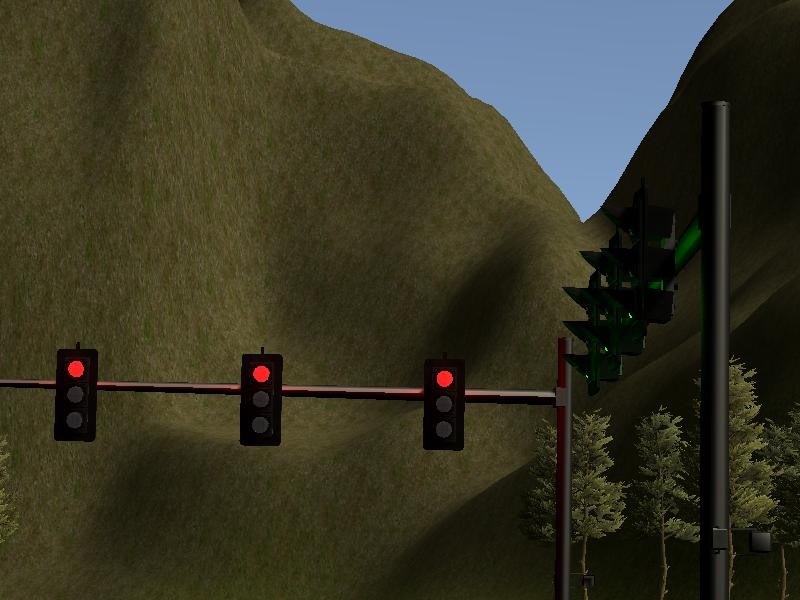Red: (55, 349, 95, 441), (422, 358, 462, 450), (243, 353, 281, 444)
